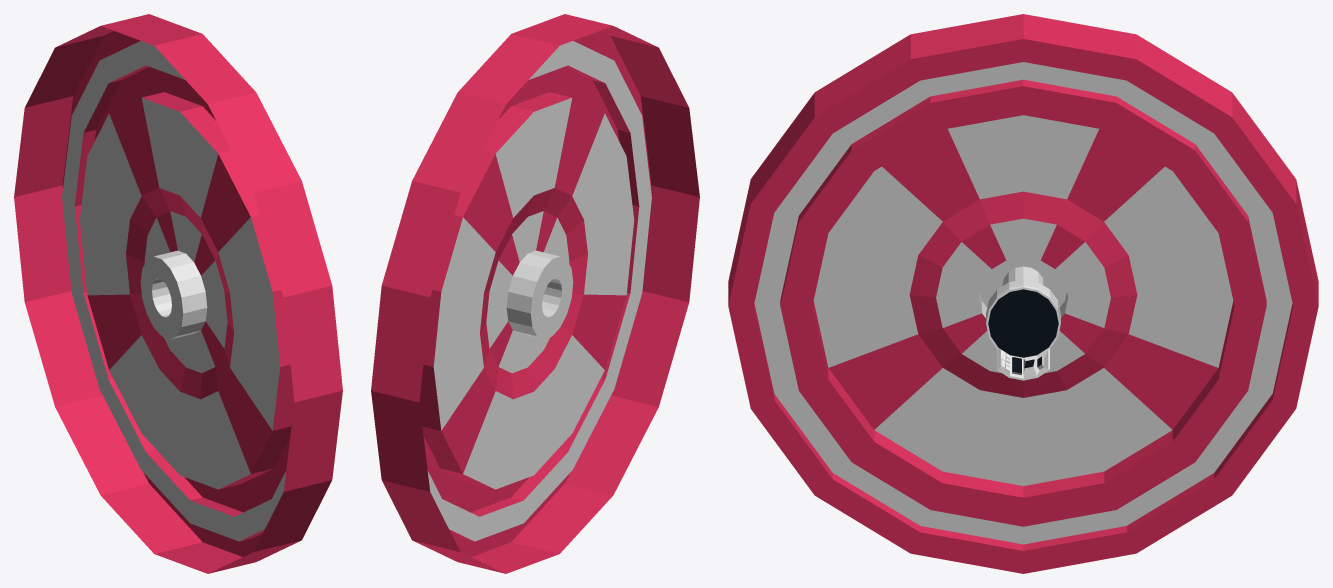
Rendered from DockingGateway.fbx.
3 views of the same model, side by side, from view 1: azimuth 30°, elevation 25°; view 2: azimuth 150°, elevation 25°; view 3: azimuth 270°, elevation 25° (orthographic). The views are drawn at different scales.
Visible parts, largest first — view 1: Docking Gateway; view 2: Docking Gateway; view 3: Docking Gateway.
Part boxes in pixels (left/top/right/bottom): Docking Gateway: left=14, top=14, right=342, bottom=573; Docking Gateway: left=371, top=14, right=699, bottom=573; Docking Gateway: left=728, top=14, right=1318, bottom=573.
Bounding box in the file's own units: 87.21 × 400 × 400.
